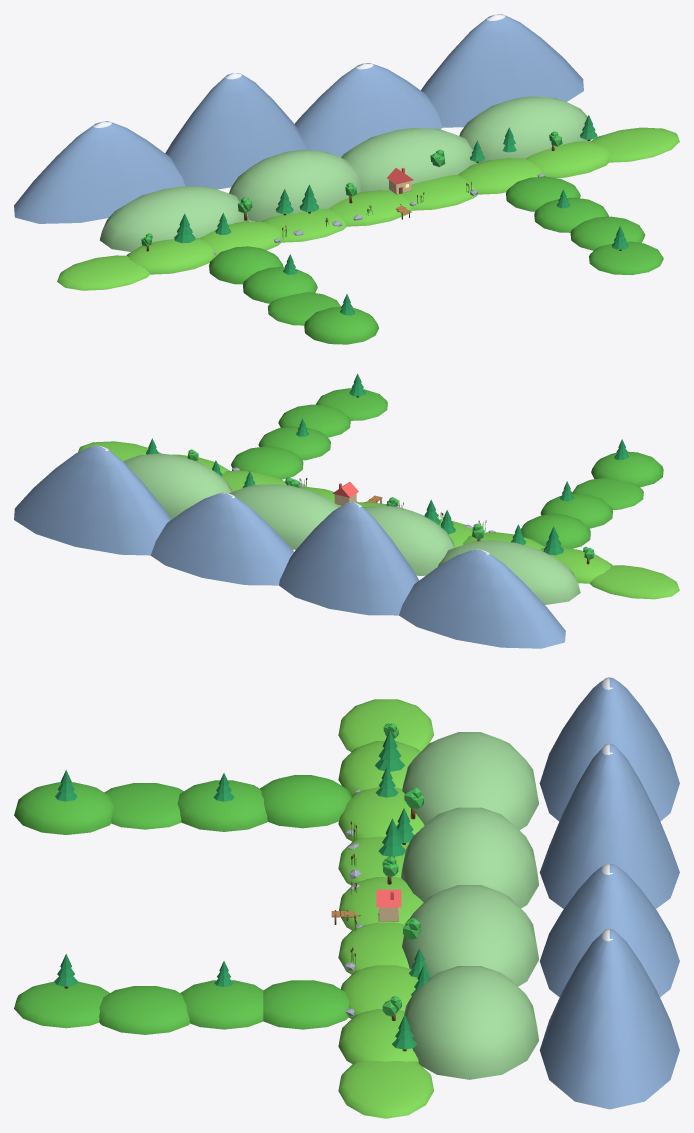
The model's file is shore_lake.glb.
3 renders of one model, top to bottom at view 1: azimuth 30°, elevation 25°; view 2: azimuth 150°, elevation 25°; view 3: azimuth 270°, elevation 25°, orthographic. The views are drawn at different scales.
Parts seen in each view (by area): view 1: shore_lake_mesh; view 2: shore_lake_mesh; view 3: shore_lake_mesh.
Part boxes in pixels (box(x1,y1,x2,y2)): shore_lake_mesh: box(14, 14, 679, 344); shore_lake_mesh: box(14, 373, 679, 648); shore_lake_mesh: box(14, 677, 679, 1118).
Size of the model in its own units: 113 by 16 by 75.96.
